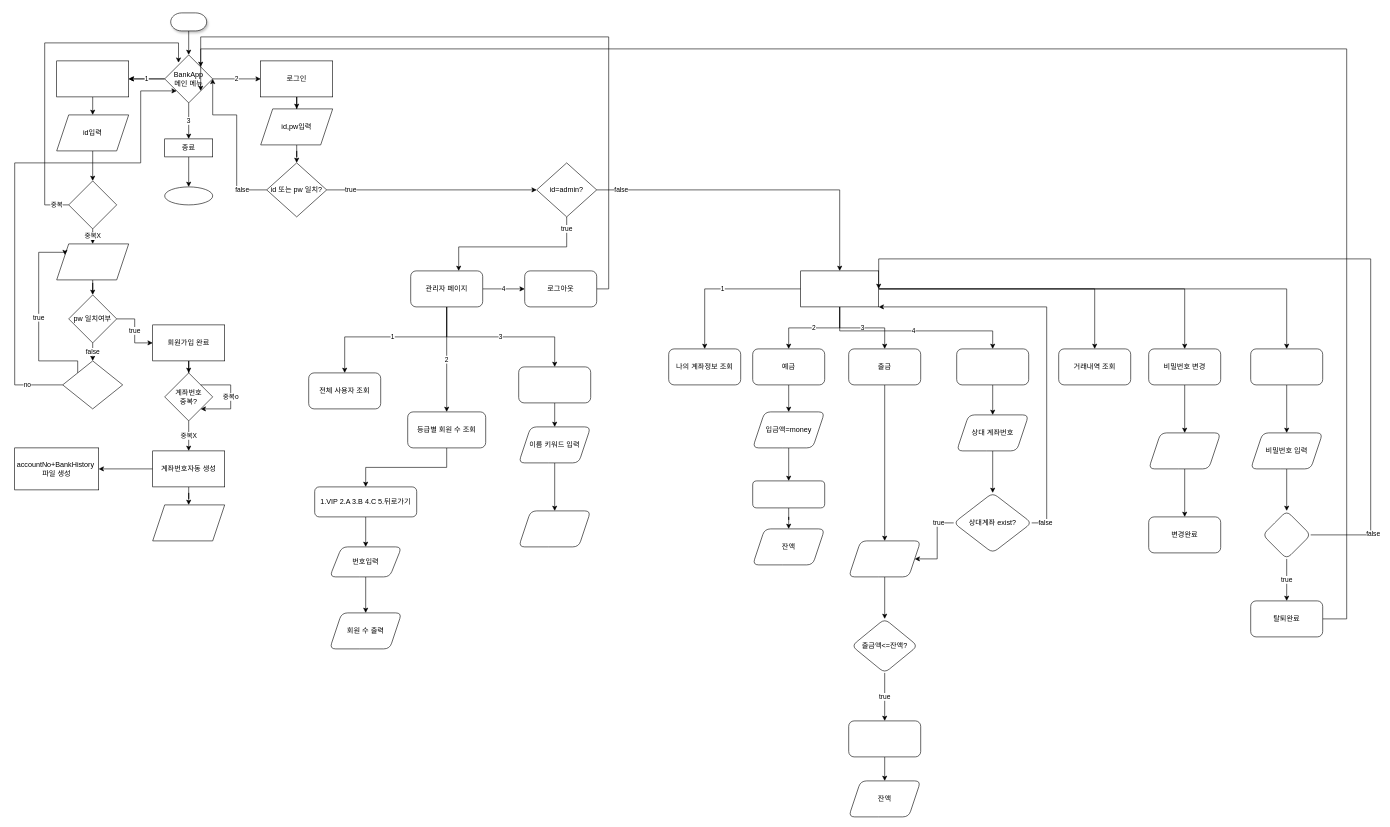
Image size: 1390x827. Some labels were removed from this diagram. Here are the shapes that lost their labels. From the top down, the centre of each, then its label:
[189,22]: start
[92,78]: 회원가입
[92,204]: id중복체크
[188,195]: 시스템 종료
[92,261]: name,pw,pw2입력
[839,288]: 일반 사용자 페이지
[92,384]: pw 재입력 선택
[554,384]: 회원검색
[992,366]: 송금
[1286,366]: 회원탈퇴
[1184,450]: 변경할 비밀번호 입력
[788,494]: 잔액 = 잔액+money
[188,522]: 계좌번호 출력
[554,528]: 키워드 포함결과 출력
[1286,534]: 비밀번호 일치?
[884,558]: 출금액=money
[884,738]: 잔액=잔액-money
